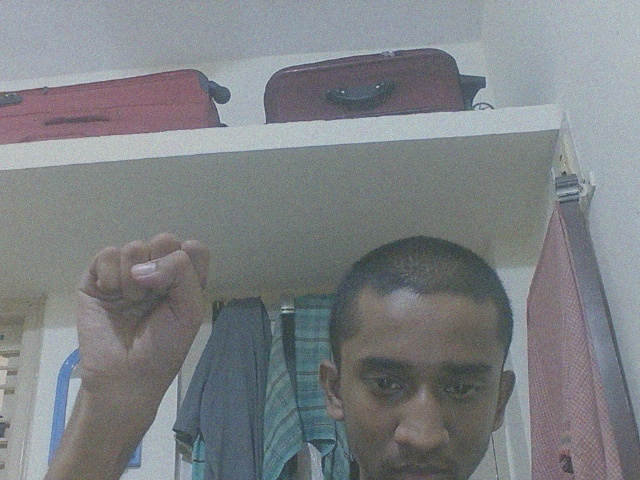hand: (69, 228, 213, 425)
